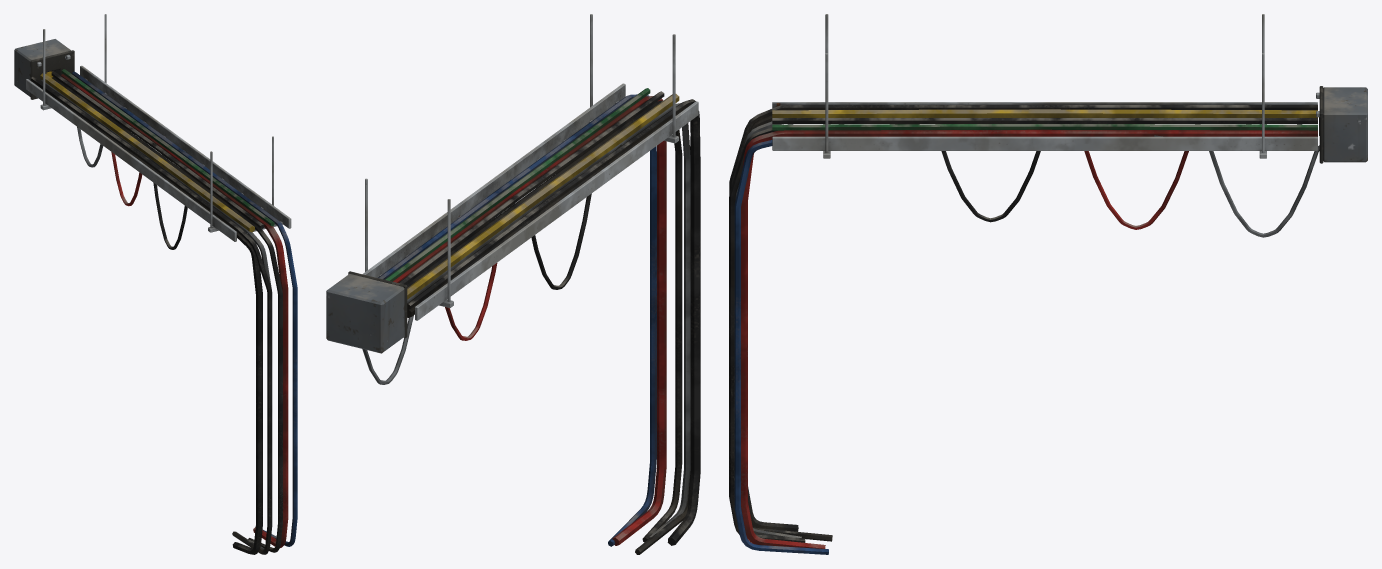
File: CableTray.fbx
The picture shows the model from 3 angles, left to right: view 1: azimuth 30°, elevation 25°; view 2: azimuth 150°, elevation 25°; view 3: azimuth 270°, elevation 25°; orthographic projection. The views are drawn at different scales.
Visible parts, largest first — view 1: CableTray; view 2: CableTray; view 3: CableTray.
Boxes of the visible parts, x1,y1,x2,y2 form: CableTray: (14, 14, 297, 554); CableTray: (326, 14, 700, 554); CableTray: (729, 14, 1367, 554).
Size of the model in its own units: 1.65 by 9.3 by 10.54.
Materials: 1 (1 with a texture image).
